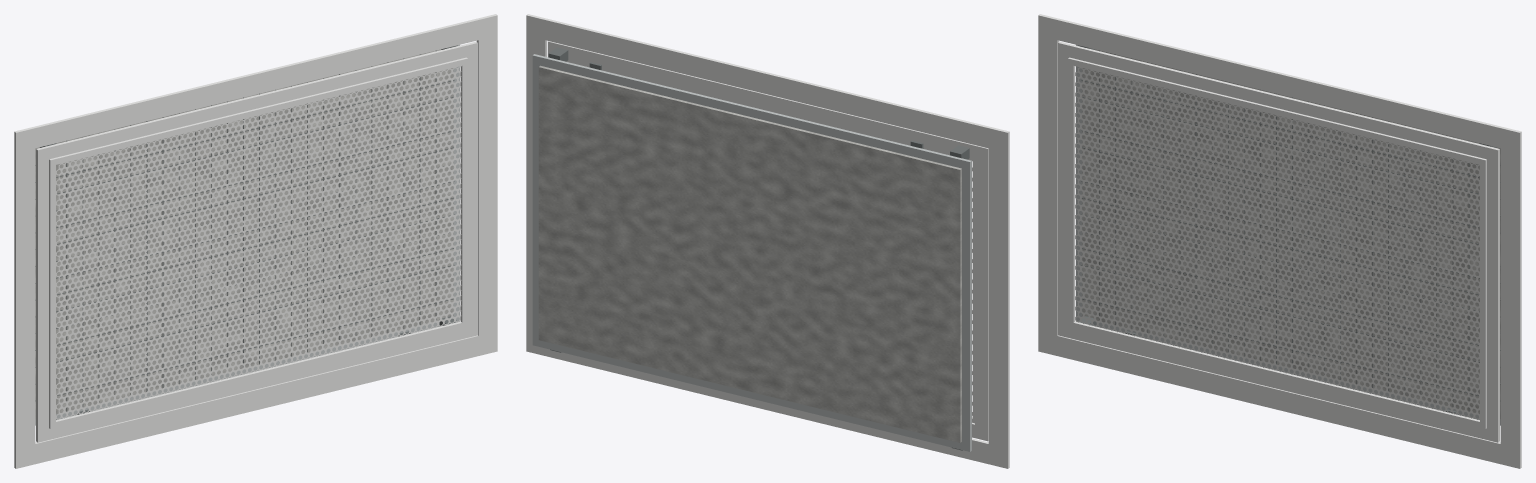
The model's file is egf-push-realistic.glb.
3 views of the same model, side by side, from view 1: azimuth 30°, elevation 25°; view 2: azimuth 150°, elevation 25°; view 3: azimuth 330°, elevation 25° (orthographic).
Visible parts, largest first — view 1: Pannello_forato.001, Filtro.001, Cornice_fissa.012, Cornice_fissa.013, Cornice_fissa.014, Cornice_fissa.015, Cornice_mobile.004, Cornice_mobile.005, Cornice_mobile.006, Pannello_forato_bordo.005, Pannello_forato_bordo.004, Cornice_mobile.007 (+4 smaller); view 2: Filtro.001, Cornice_fissa.012, Cornice_fissa.014, Cornice_mobile.004, Filtro_telaio.004, Cornice_fissa.013, Cornice_mobile.006, Filtro_telaio.005, Filtro_telaio.006, Cornice_fissa.015, Filtro_telaio.007, Pannello_forato_bordo.004 (+1 smaller); view 3: Pannello_forato.001, Filtro.001, Cornice_fissa.012, Cornice_fissa.013, Cornice_fissa.015, Cornice_fissa.014, Cornice_mobile.004, Cornice_mobile.005, Cornice_mobile.007, Pannello_forato_bordo.005, Pannello_forato_bordo.004, Cornice_mobile.006 (+4 smaller).
Part boxes in pixels (x1,y1,x2,y2): Pannello_forato.001: (56,66,461,419); Filtro.001: (35,49,453,418); Cornice_fissa.012: (14,14,497,148); Cornice_fissa.013: (16,335,497,468); Cornice_fissa.014: (14,132,35,468); Cornice_fissa.015: (476,16,497,350); Cornice_mobile.004: (36,41,477,159); Cornice_mobile.005: (38,327,477,442); Cornice_mobile.006: (36,149,48,442); Pannello_forato_bordo.005: (51,321,467,428); Pannello_forato_bordo.004: (49,57,467,164); Cornice_mobile.007: (467,43,477,334); Filtro.001: (538,65,961,442); Cornice_fissa.012: (526,14,1009,148); Cornice_fissa.014: (988,132,1009,468); Cornice_mobile.004: (548,41,988,158); Filtro_telaio.004: (532,54,971,168); Cornice_fissa.013: (526,345,1007,468); Cornice_mobile.006: (975,149,988,440); Filtro_telaio.005: (533,340,969,451); Filtro_telaio.006: (962,161,971,451); Cornice_fissa.015: (526,16,547,350); Filtro_telaio.007: (532,56,540,344); Pannello_forato_bordo.004: (566,60,974,161); Pannello_forato.001: (1075,67,1479,419); Filtro.001: (1082,49,1500,418); Cornice_fissa.012: (1038,14,1521,148); Cornice_fissa.013: (1038,335,1519,468); Cornice_fissa.015: (1500,132,1521,468); Cornice_fissa.014: (1038,16,1059,350); Cornice_mobile.004: (1058,41,1499,159); Cornice_mobile.005: (1058,327,1497,442); Cornice_mobile.007: (1487,149,1499,442); Pannello_forato_bordo.005: (1068,321,1484,428); Pannello_forato_bordo.004: (1068,57,1486,164); Cornice_mobile.006: (1058,43,1068,334).
Size of the model in its own units: 0.6 by 0.4 by 0.047.
4 materials, 1 textured.
